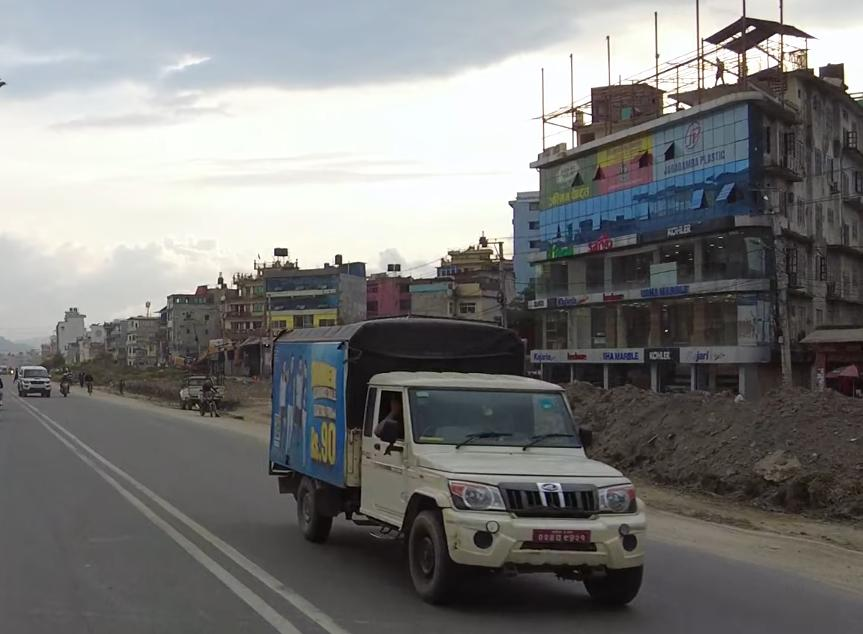SUV: (13, 357, 61, 405)
bike: (196, 387, 224, 425)
transport_vehicle: (266, 299, 657, 618)
